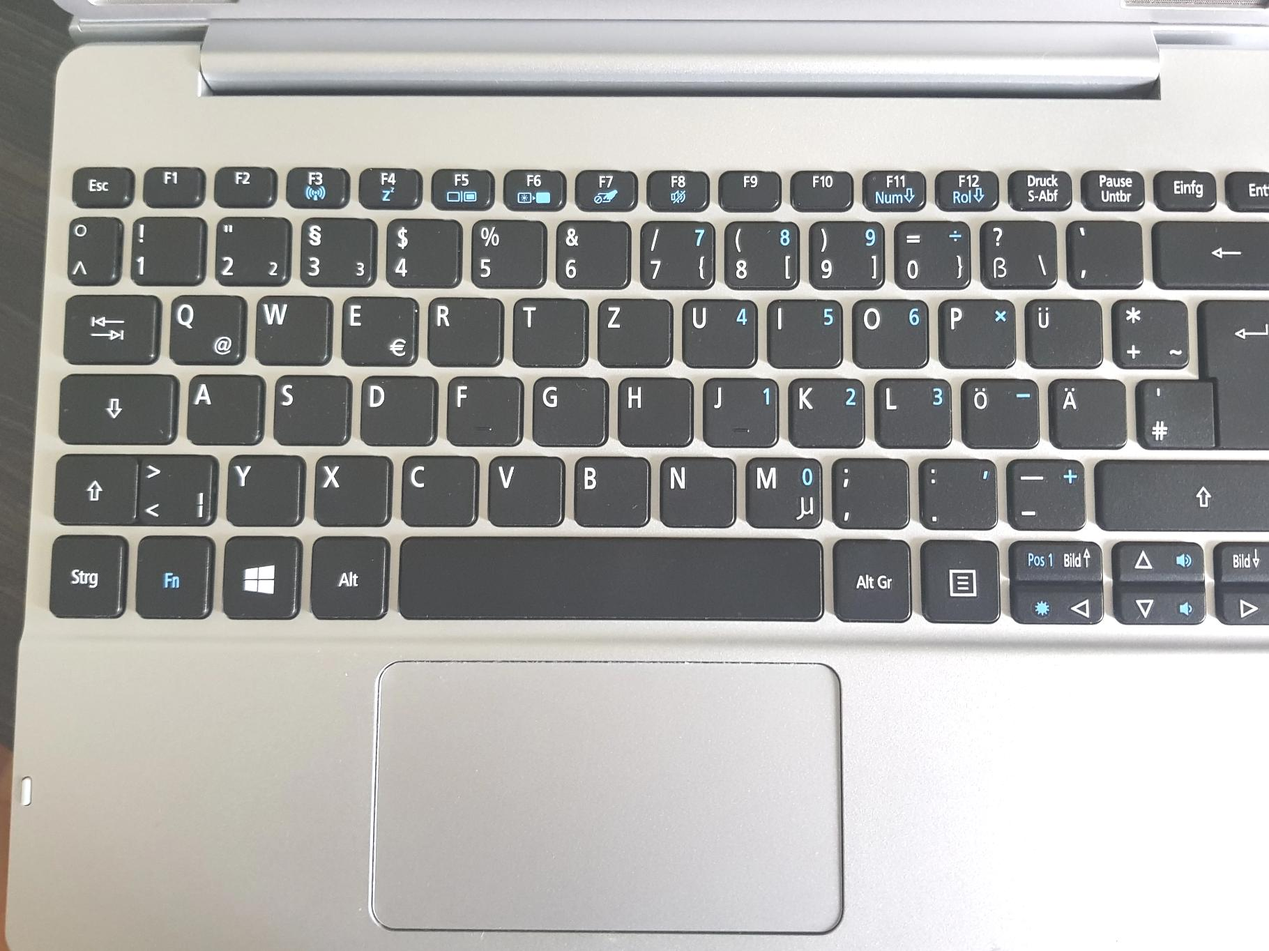0: (895, 219, 971, 290)
1: (130, 215, 206, 286)
2: (215, 215, 292, 286)
3: (299, 216, 377, 287)
4: (386, 216, 461, 289)
5: (471, 218, 546, 289)
6: (556, 219, 630, 289)
7: (641, 219, 715, 290)
8: (725, 220, 800, 291)
9: (810, 220, 885, 290)
a: (186, 373, 264, 446)
accent: (1067, 218, 1143, 288)
ae: (1050, 378, 1129, 450)
alt-left: (310, 536, 390, 621)
altgr-right: (833, 538, 913, 623)
b: (572, 455, 651, 528)
c: (401, 455, 479, 528)
caret: (66, 215, 123, 285)
comma: (831, 456, 909, 529)
d: (360, 374, 437, 447)
del: (1151, 220, 1269, 289)
e: (340, 295, 419, 367)
enter: (1199, 298, 1269, 450)
f: (446, 375, 522, 448)
g: (532, 376, 608, 447)
h: (618, 377, 694, 448)
hash: (1137, 377, 1216, 450)
i: (766, 298, 843, 367)
j: (702, 376, 777, 448)
k: (789, 377, 865, 448)
keyboard: (47, 157, 1269, 640)
l: (875, 377, 952, 449)
less: (139, 452, 218, 526)
m: (744, 457, 822, 528)
minus: (1005, 458, 1086, 531)
n: (659, 456, 736, 529)
o: (851, 298, 930, 370)
oe: (961, 377, 1041, 450)
p: (939, 297, 1017, 369)
plus: (1111, 298, 1190, 370)
point: (917, 457, 998, 530)
q: (167, 292, 247, 365)
r: (427, 296, 503, 366)
s: (273, 374, 351, 446)
shift-left: (52, 453, 136, 525)
shift-lock: (58, 373, 178, 445)
shift-right: (1094, 457, 1269, 532)
space: (395, 537, 827, 621)
ss: (980, 218, 1058, 290)
strg-left: (47, 533, 129, 618)
t: (512, 296, 588, 367)
tab: (62, 292, 162, 365)
u: (681, 298, 758, 370)
ue: (1025, 297, 1104, 370)
v: (487, 455, 565, 528)
w: (254, 294, 332, 365)
x: (313, 453, 391, 528)
y: (226, 453, 305, 527)
z: (596, 297, 674, 369)
